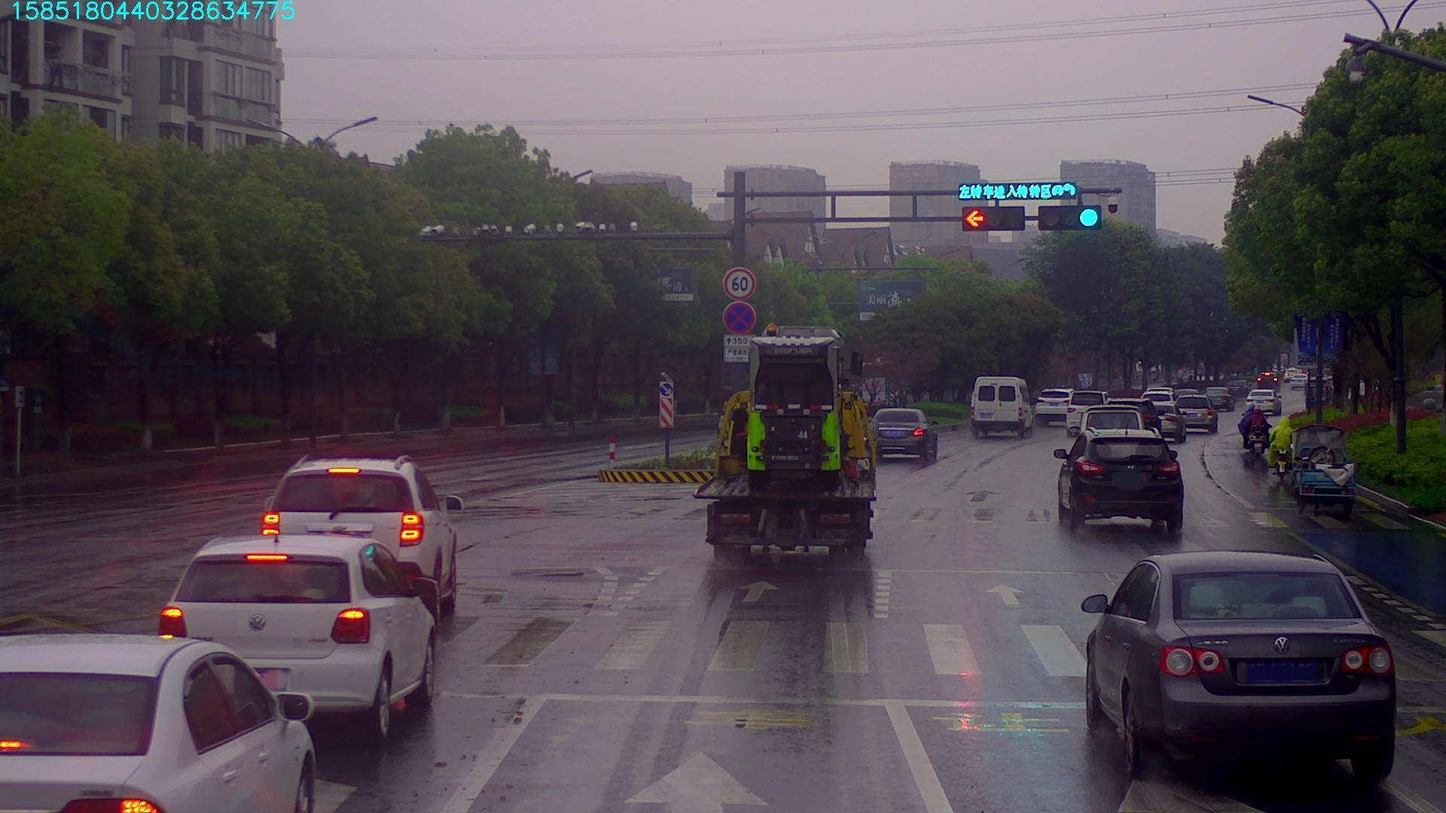green: (1039, 206, 1099, 230)
red: (962, 209, 1019, 230)
wait_on: (947, 181, 1079, 197)
